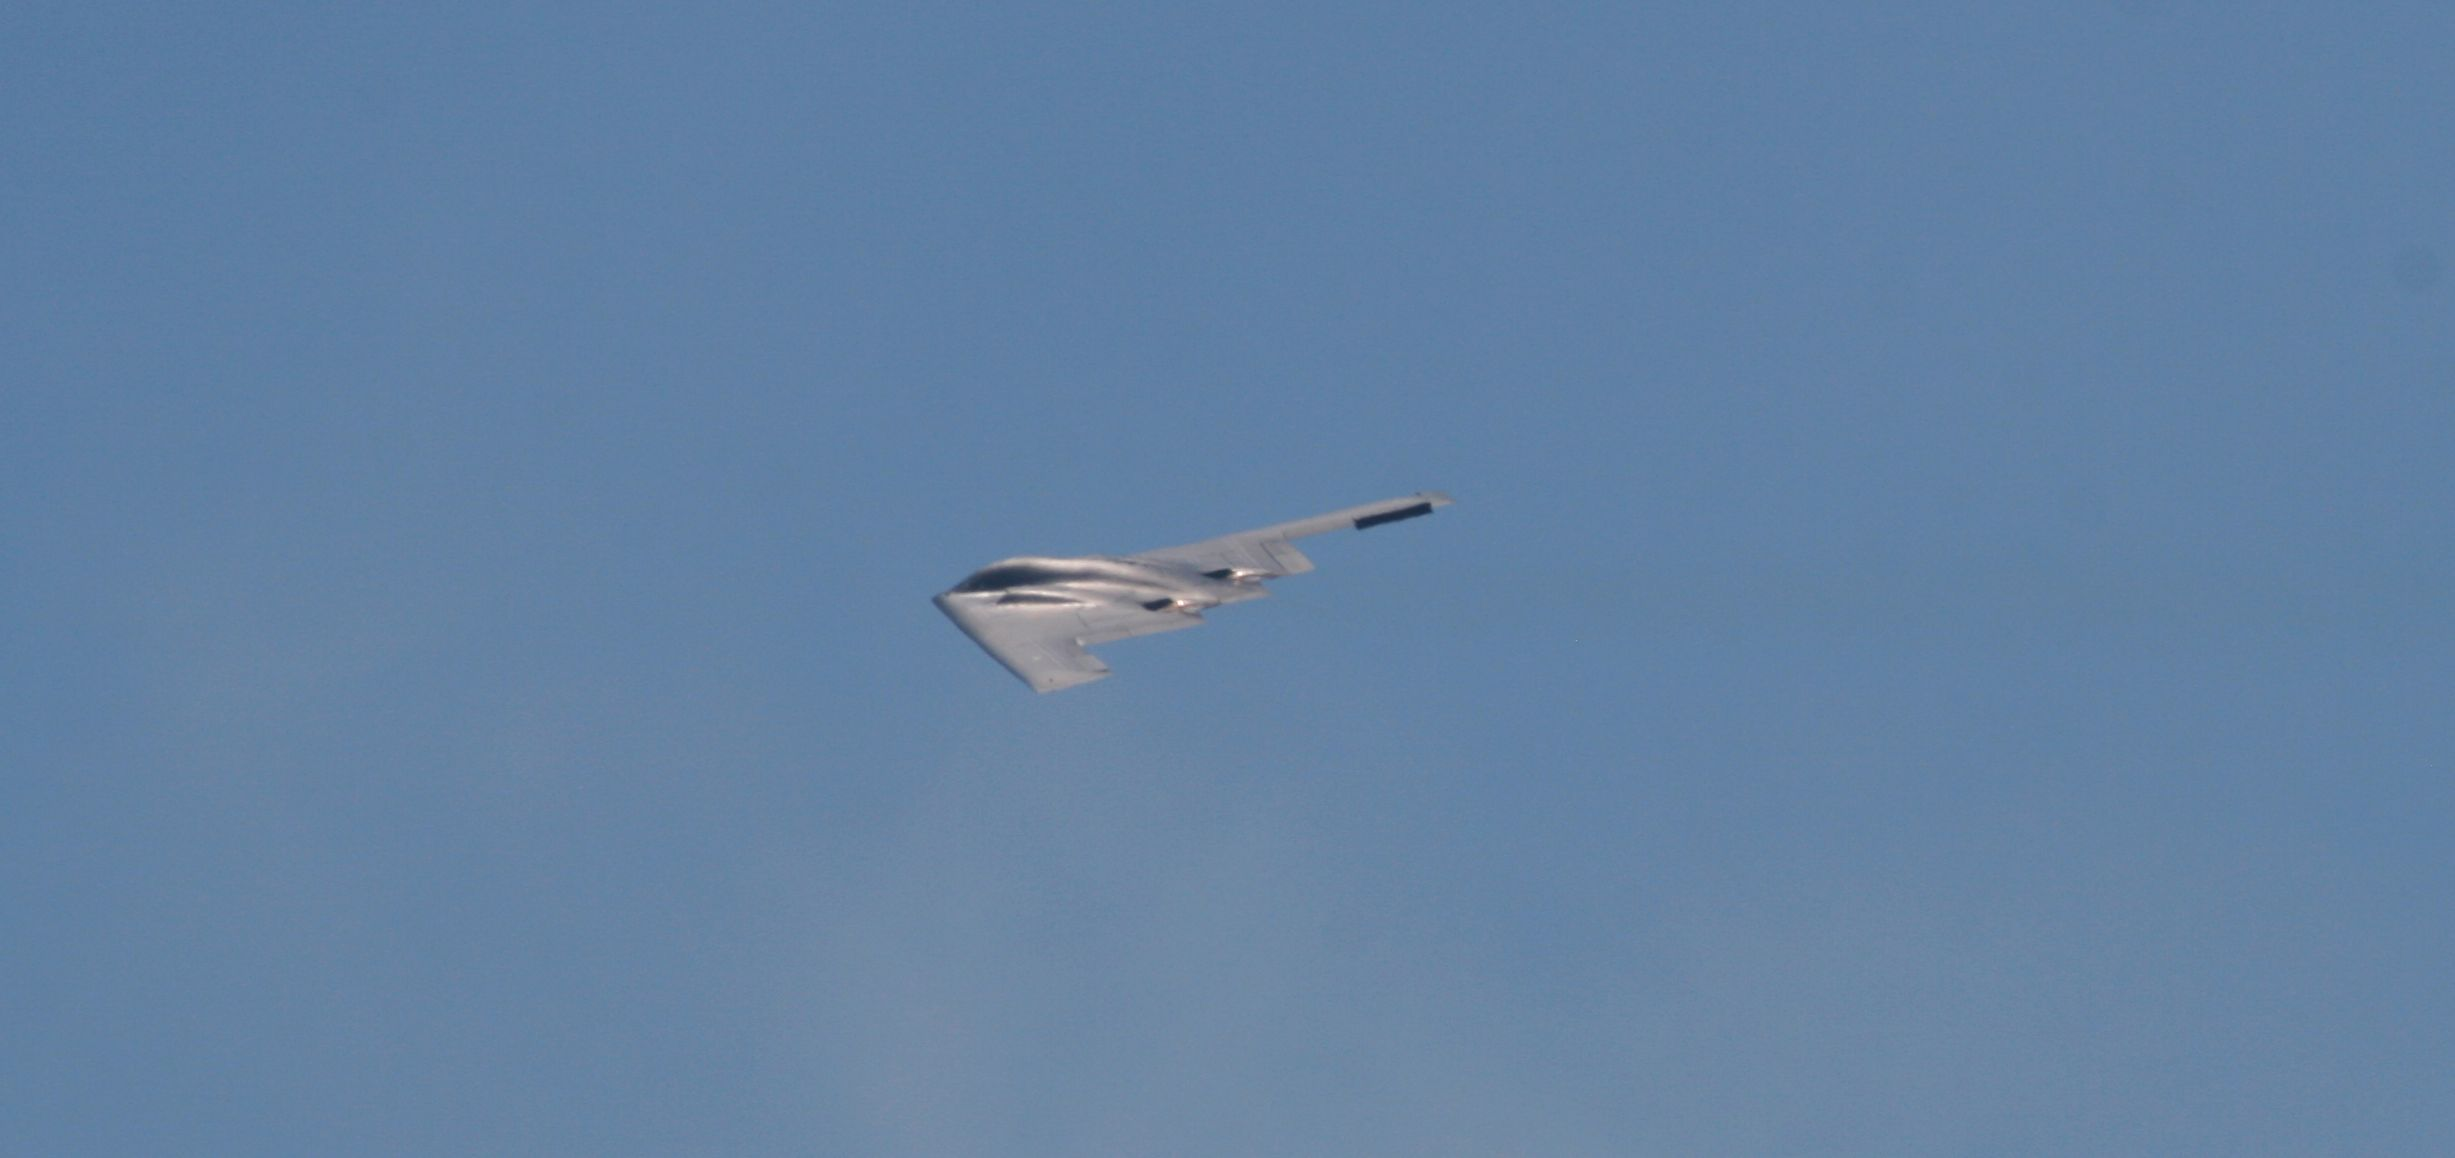B2: (930, 487, 1458, 696)
